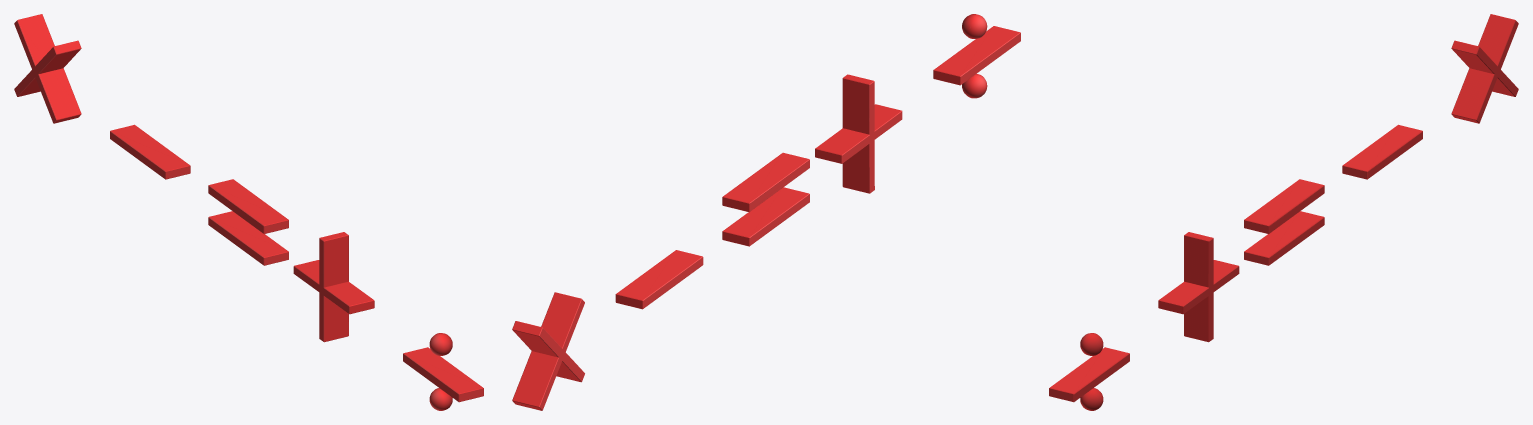
Rendered from Symbols_Geo.fbx.
The picture shows the model from 3 angles, left to right: view 1: azimuth 30°, elevation 25°; view 2: azimuth 150°, elevation 25°; view 3: azimuth 330°, elevation 25°; orthographic projection. The views are drawn at different scales.
Visible parts, largest first — view 1: Division; view 2: Division; view 3: Division.
Part boxes in pixels (box(x1,y1,x2,y2)): Division: box(14, 14, 483, 410); Division: box(512, 14, 1020, 410); Division: box(1049, 14, 1518, 410).
Size of the model in its own units: 3.62 by 13.83 by 110.
Materials: 5 (5 with a texture image).
